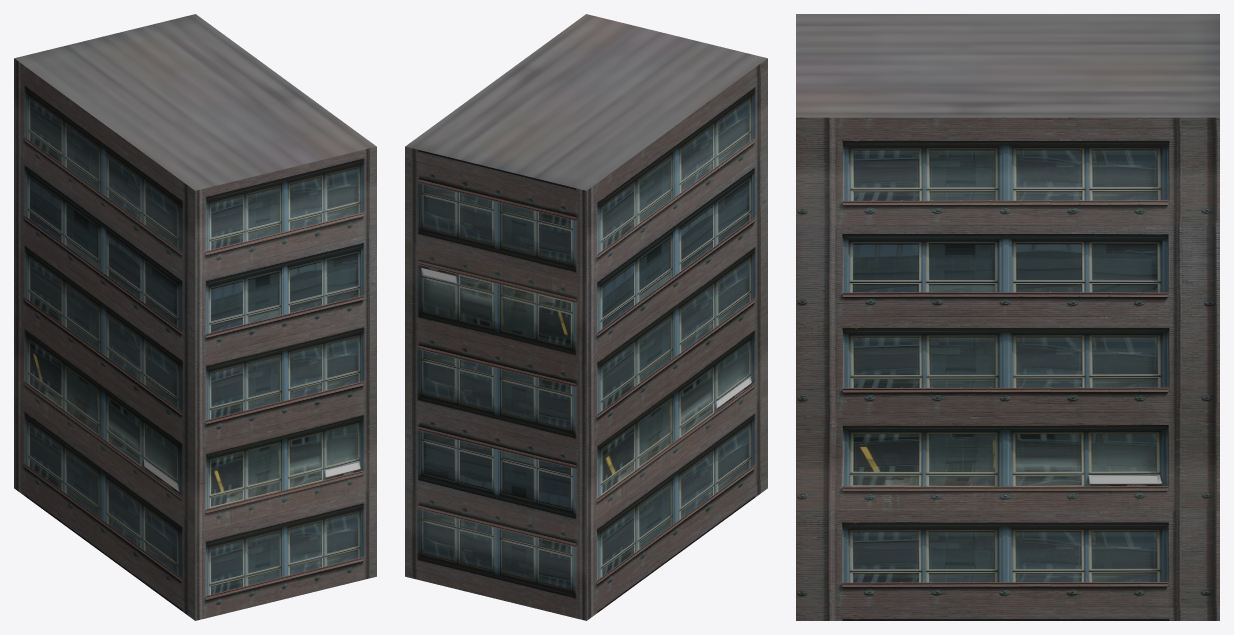
The model's file is midrise.glb.
3 views of the same model, side by side, from view 1: azimuth 30°, elevation 25°; view 2: azimuth 150°, elevation 25°; view 3: azimuth 270°, elevation 25° (orthographic). The views are drawn at different scales.
Visible parts, largest first — view 1: pCube2; view 2: pCube2; view 3: pCube2.
Part boxes in pixels (<box>): pCube2: <box>14,14,376,620</box>; pCube2: <box>405,14,767,620</box>; pCube2: <box>796,14,1219,620</box>.
Size of the model in its own units: 0.3187 by 0.7215 by 0.5508.
Materials: 1 (1 with a texture image).
